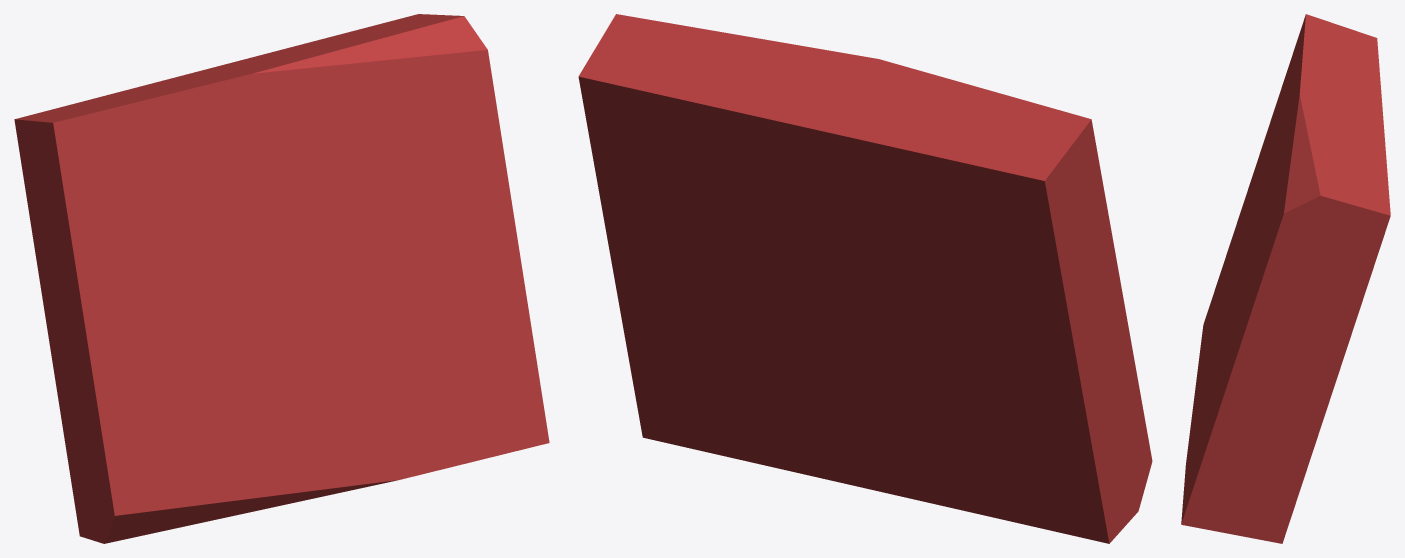
Rendered from ea_arch_wall03_rubble_01b_pre__2__lev1.glb.
3 renders of one model, left to right at view 1: azimuth 30°, elevation 25°; view 2: azimuth 150°, elevation 25°; view 3: azimuth 270°, elevation 25°, orthographic. The views are drawn at different scales.
Visible parts, largest first — view 1: ea_arch_wall03_rubble_01b_pre__2__lev1; view 2: ea_arch_wall03_rubble_01b_pre__2__lev1; view 3: ea_arch_wall03_rubble_01b_pre__2__lev1.
Boxes of the visible parts, left/top/right/bottom form: ea_arch_wall03_rubble_01b_pre__2__lev1: left=14, top=14, right=549, bottom=543; ea_arch_wall03_rubble_01b_pre__2__lev1: left=578, top=14, right=1152, bottom=543; ea_arch_wall03_rubble_01b_pre__2__lev1: left=1181, top=14, right=1390, bottom=543.
Size of the model in its own units: 1.32 by 1.2 by 0.641.
Materials: 1 (1 with a texture image).
